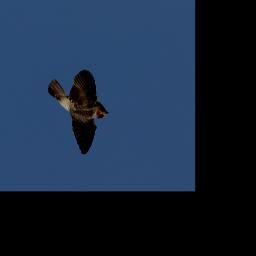Swallow: (47, 68, 111, 156)
